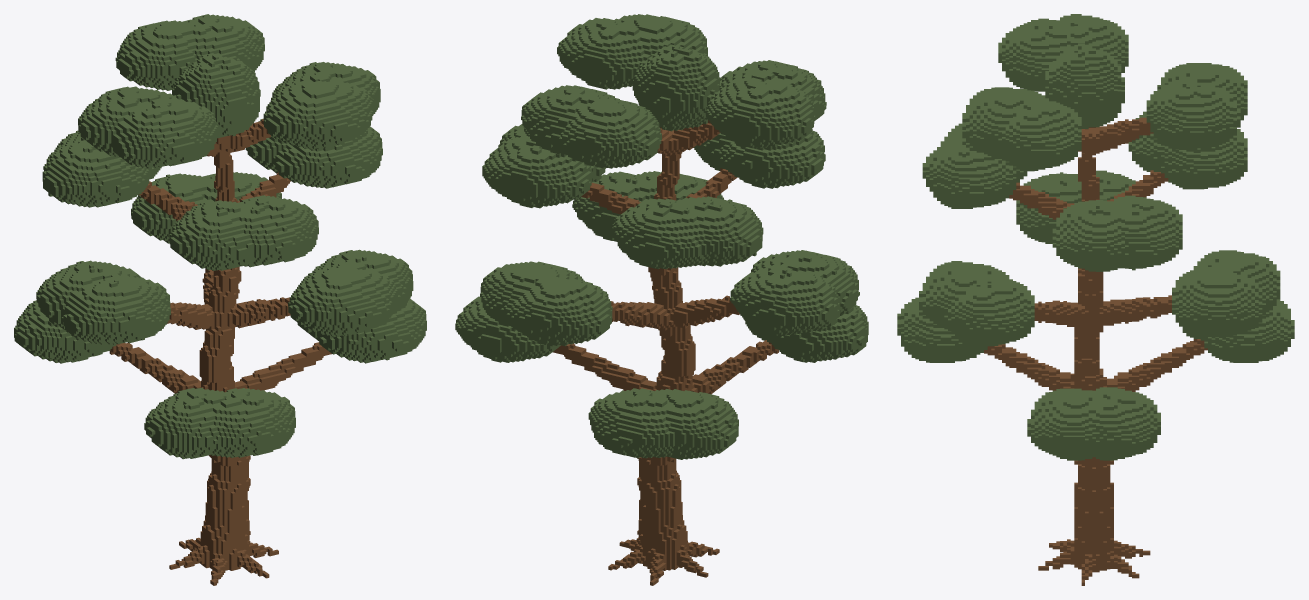
The picture shows the model from 3 angles, left to right: view 1: azimuth 30°, elevation 25°; view 2: azimuth 150°, elevation 25°; view 3: azimuth 270°, elevation 25°; orthographic projection.
Visible parts, largest first — view 1: 既有乔木色阶与高度族; view 2: 既有乔木色阶与高度族; view 3: 既有乔木色阶与高度族.
Part boxes in pixels (x1,y1,x2,y2): 既有乔木色阶与高度族: (14,14,426,585); 既有乔木色阶与高度族: (455,14,868,585); 既有乔木色阶与高度族: (897,14,1294,585).
Size of the model in its own units: 23 by 31 by 22.
3 materials, 3 textured.
